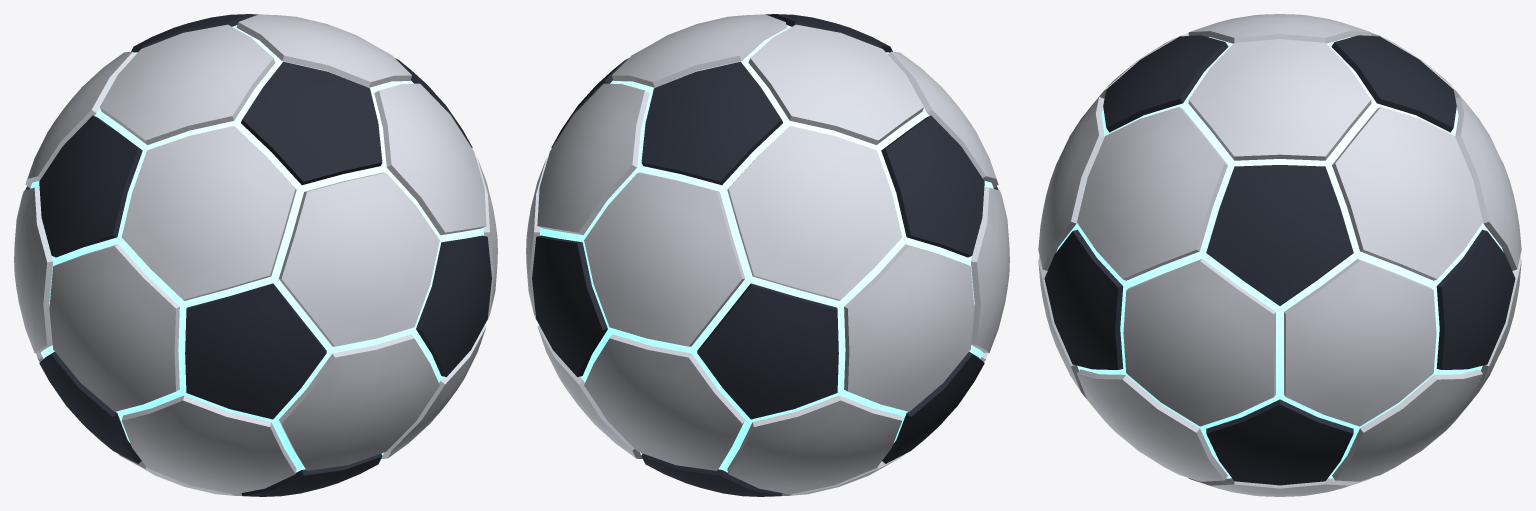
Rendered from ball.glb.
3 renders of one model, left to right at view 1: azimuth 30°, elevation 25°; view 2: azimuth 150°, elevation 25°; view 3: azimuth 270°, elevation 25°, orthographic.
Visible parts, largest first — view 1: ball_mesh; view 2: ball_mesh; view 3: ball_mesh.
Part boxes in pixels (x1,y1,x2,y2): ball_mesh: (14, 14, 497, 496); ball_mesh: (526, 14, 1009, 496); ball_mesh: (1038, 14, 1521, 496).
Size of the model in its own units: 3.8 by 3.8 by 3.8.
